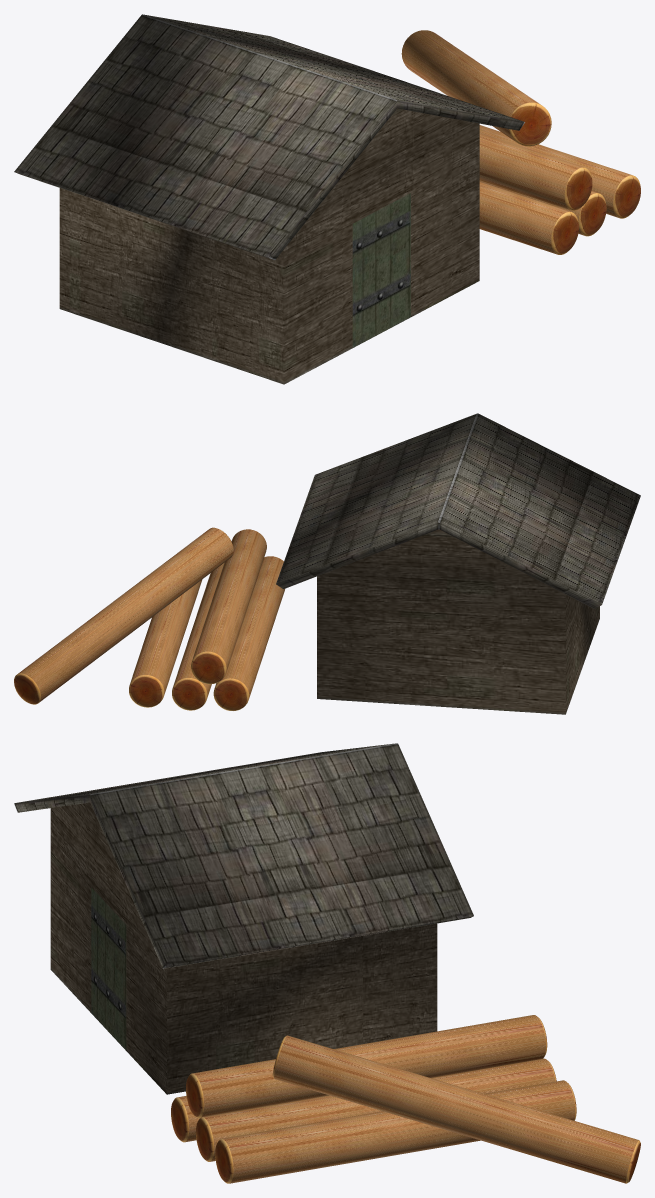
Rendered from saw.fbx.
3 views of the same model, one above another, from view 1: azimuth 30°, elevation 25°; view 2: azimuth 150°, elevation 25°; view 3: azimuth 270°, elevation 25° (orthographic). The views are drawn at different scales.
Visible parts, largest first — view 1: Do_Strecha, Do_Steny, Do_Dvere, poleno3.004, poleno3.003, poleno3.002, poleno3, poleno3.001; view 2: Do_Steny, Do_Strecha, poleno3.004, poleno3.003, poleno3.002, poleno3, poleno3.001; view 3: Do_Strecha, Do_Steny, poleno3.004, poleno3.003, poleno3, poleno3.001, Do_Dvere, poleno3.002.
Part boxes in pixels (left/top/right/bottom): Do_Strecha: left=14, top=14, right=524, bottom=260; Do_Steny: left=59, top=108, right=479, bottom=384; Do_Dvere: left=352, top=193, right=410, bottom=347; poleno3.004: left=401, top=30, right=551, bottom=146; poleno3.003: left=479, top=133, right=592, bottom=210; poleno3.002: left=479, top=182, right=578, bottom=254; poleno3: left=479, top=125, right=640, bottom=218; poleno3.001: left=479, top=180, right=606, bottom=236; Do_Steny: left=317, top=529, right=599, bottom=714; Do_Strecha: left=276, top=413, right=640, bottom=608; poleno3.004: left=14, top=527, right=233, bottom=704; poleno3.003: left=191, top=529, right=266, bottom=684; poleno3.002: left=213, top=556, right=284, bottom=710; poleno3: left=129, top=579, right=202, bottom=707; poleno3.001: left=172, top=563, right=224, bottom=710; Do_Strecha: left=14, top=743, right=473, bottom=968; Do_Steny: left=50, top=802, right=437, bottom=1094; poleno3.004: left=272, top=1035, right=640, bottom=1183; poleno3.003: left=186, top=1015, right=547, bottom=1118; poleno3: left=215, top=1080, right=576, bottom=1183; poleno3.001: left=196, top=1058, right=556, bottom=1161; Do_Dvere: left=91, top=887, right=126, bottom=1050; poleno3.002: left=171, top=1096, right=199, bottom=1142.
Size of the model in its own units: 4 by 1.57 by 3.67.
Materials: 2 (2 with a texture image).
